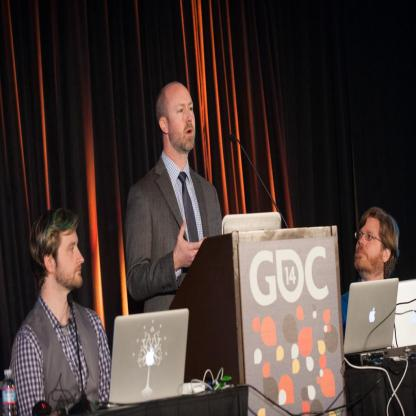board: (107, 312, 192, 406), (344, 278, 398, 354), (222, 211, 282, 234)
